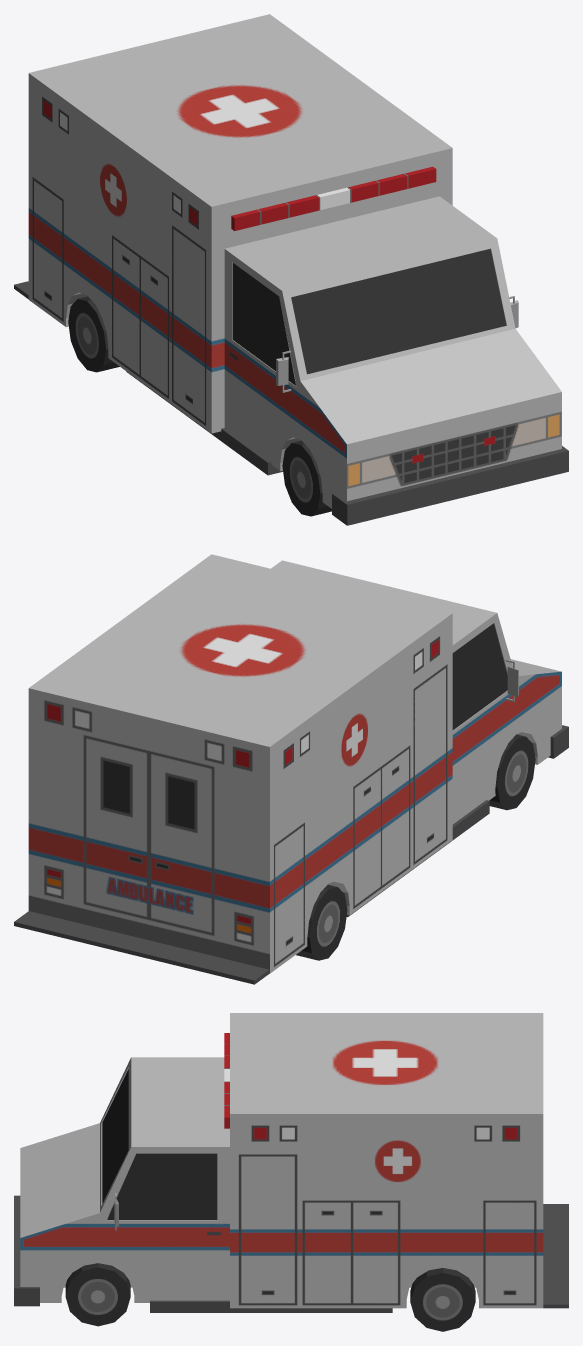
The model's file is vehicle-ambulance.glb.
3 views of the same model, one above another, from view 1: azimuth 30°, elevation 25°; view 2: azimuth 150°, elevation 25°; view 3: azimuth 270°, elevation 25° (orthographic). The views are drawn at different scales.
Visible parts, largest first — view 1: model; view 2: model; view 3: model.
Part boxes in pixels (x1=…): model: x1=14, y1=14, x2=568, y2=525; model: x1=14, y1=554, x2=568, y2=984; model: x1=14, y1=1013, x2=568, y2=1331.
Bounding box in the file's own units: 2.93 × 2.95 × 6.81.
1 material, 1 textured.
